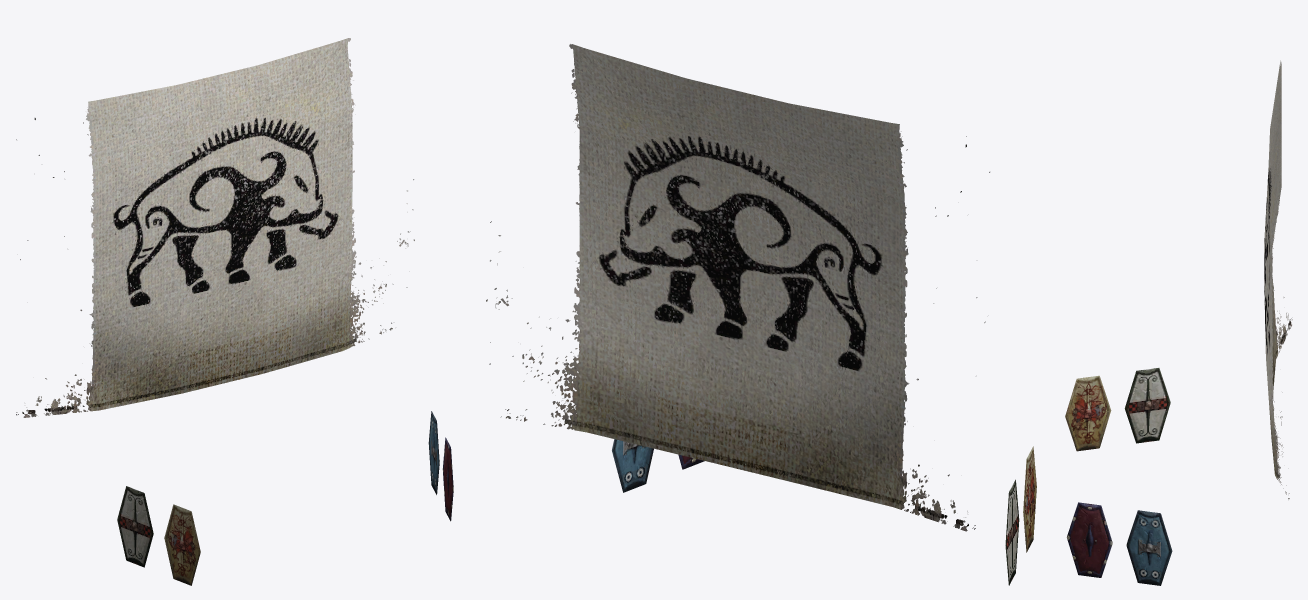
File: celt_merchant.dae
3 views of the same model, side by side, from view 1: azimuth 30°, elevation 25°; view 2: azimuth 150°, elevation 25°; view 3: azimuth 270°, elevation 25° (orthographic). The views are drawn at different scales.
Visible parts, largest first — view 1: celt_merchant_sail; view 2: celt_merchant_sail; view 3: celt_merchant_sail.
Boxes of the visible parts, box(x1,y1,x2,y2) form: celt_merchant_sail: box(16, 38, 453, 585); celt_merchant_sail: box(486, 44, 1036, 585); celt_merchant_sail: box(1065, 60, 1292, 585).
Size of the model in its own units: 11.85 by 11.55 by 5.94.
